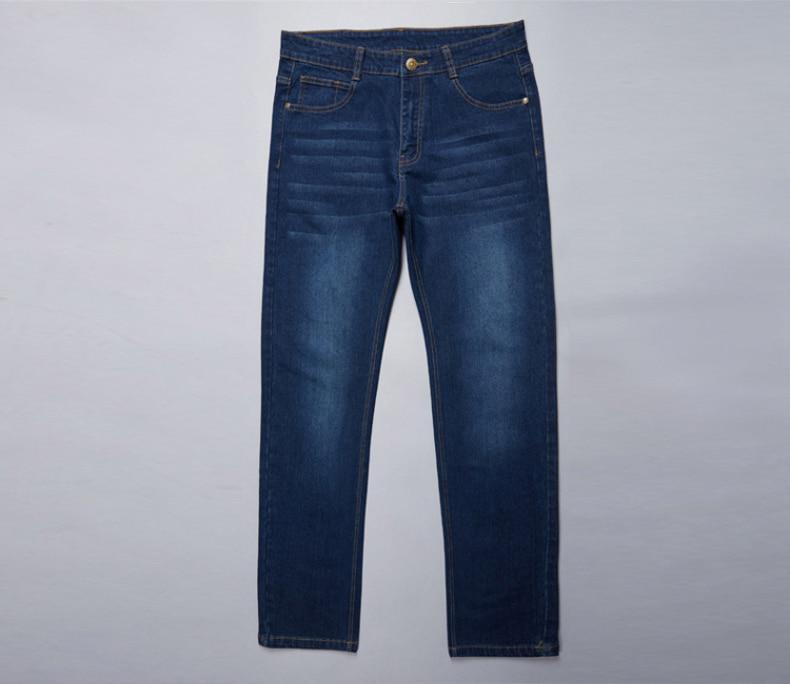jeans: (246, 24, 569, 660)
